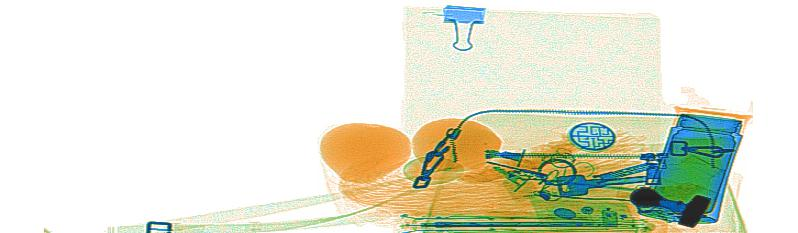seal: (627, 184, 712, 229)
